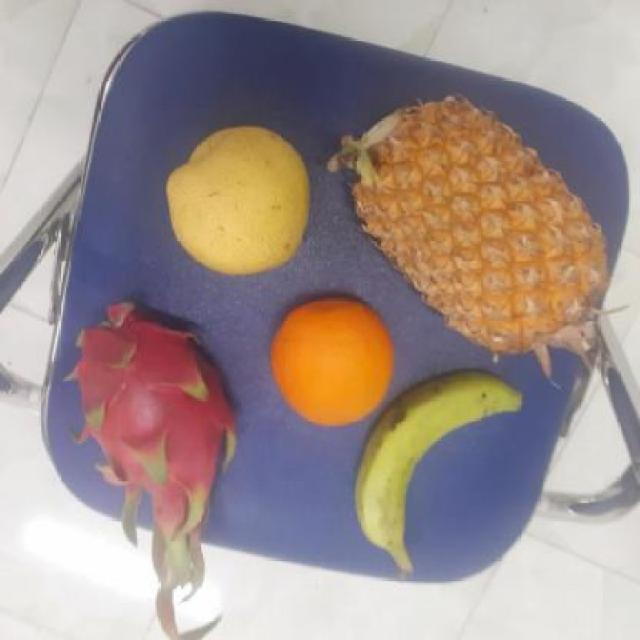banana: (356, 363, 526, 569)
dragon fruit: (60, 303, 251, 531)
oren: (267, 290, 399, 428)
pear: (164, 128, 316, 277)
pineapple: (343, 91, 619, 354)
